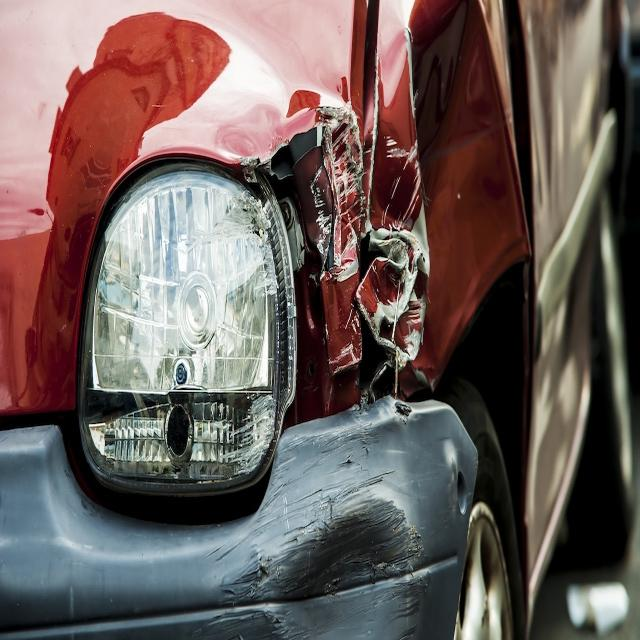crush: (56, 0, 533, 640)
